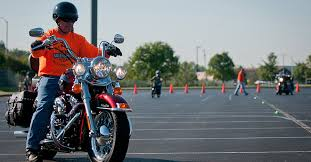helmet: (47, 1, 80, 35)
